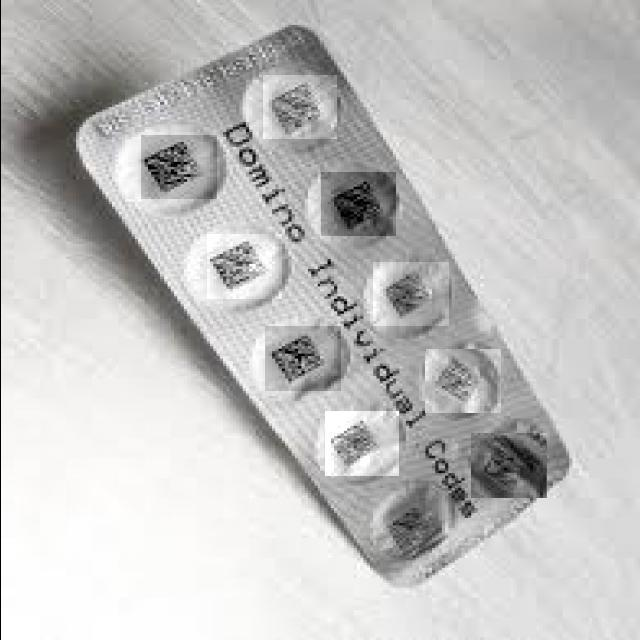Data-Matrix: (470, 433, 546, 498), (264, 326, 340, 391), (206, 234, 281, 299), (372, 262, 448, 326), (424, 349, 500, 413), (372, 491, 448, 555), (140, 135, 216, 199), (324, 411, 398, 476), (320, 172, 395, 236), (262, 75, 336, 139)
